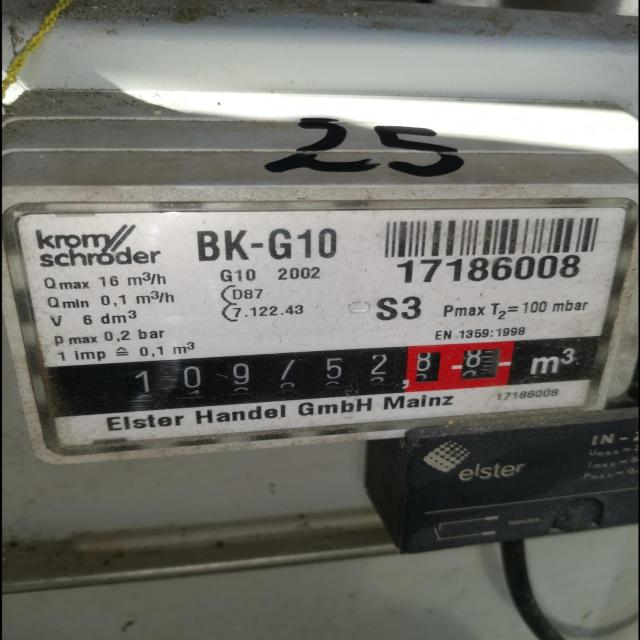gaz_meter: (20, 210, 630, 453)
indication: (95, 339, 514, 417)
